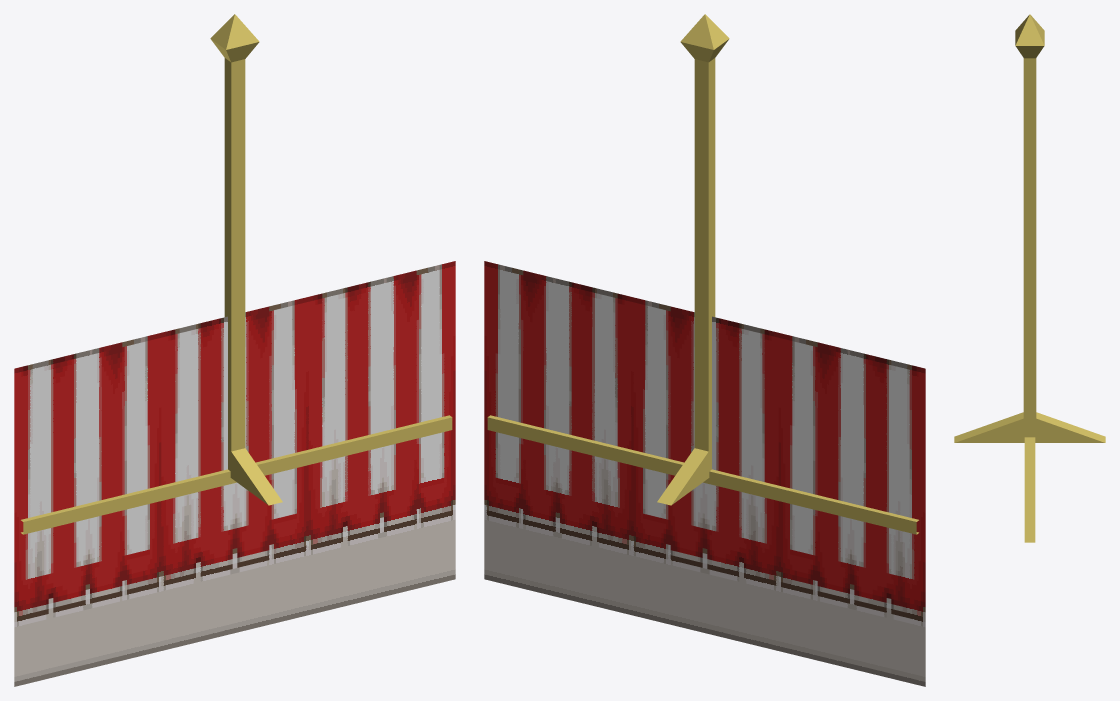
3 renders of one model, left to right at view 1: azimuth 30°, elevation 25°; view 2: azimuth 150°, elevation 25°; view 3: azimuth 270°, elevation 25°, orthographic. The views are drawn at different scales.
Visible parts, largest first — view 1: 4485wall_r; view 2: 4485wall_r; view 3: 4485wall_r.
Boxes of the visible parts, left/top/right/bottom form: 4485wall_r: left=14, top=14, right=455, bottom=686; 4485wall_r: left=484, top=14, right=925, bottom=686; 4485wall_r: left=954, top=14, right=1105, bottom=542.
Size of the model in its own units: 1.83 by 2.45 by 0.5869.
Materials: 2 (1 with a texture image).
